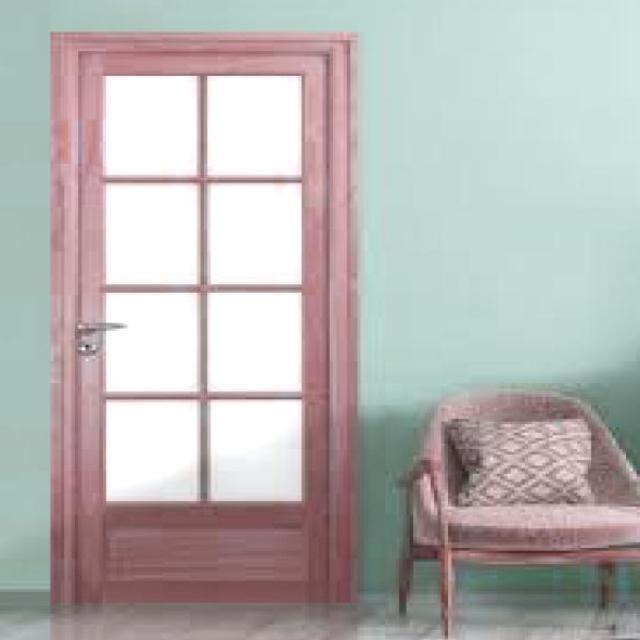door: (51, 30, 354, 608)
